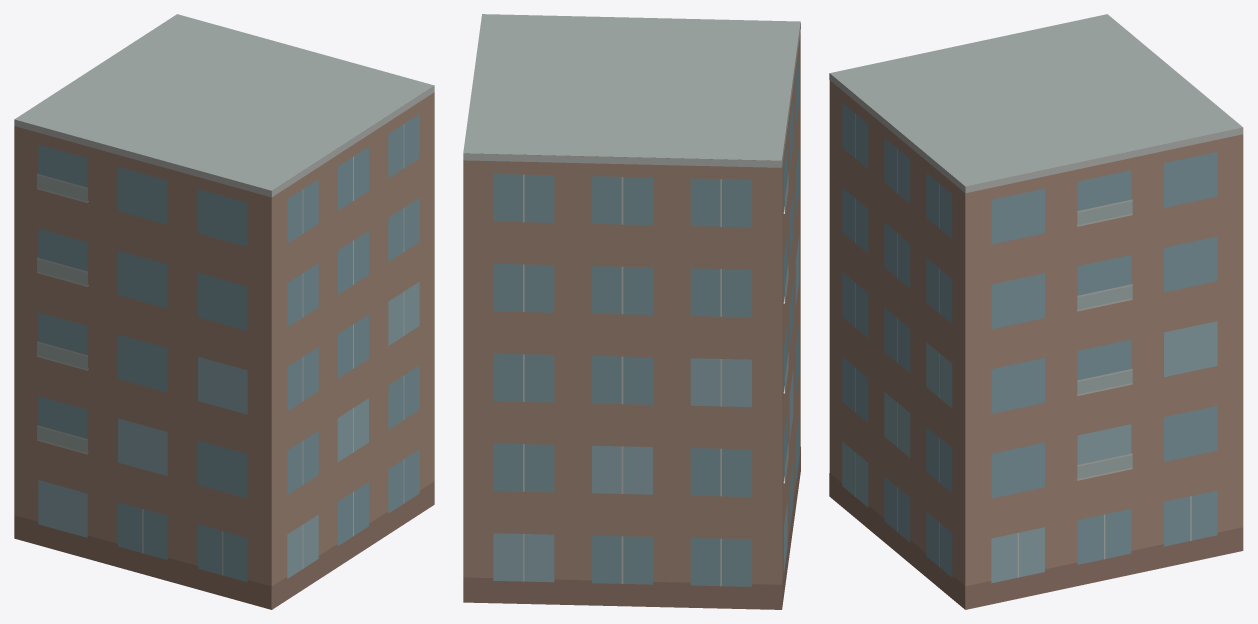
The model's file is survey-upis-32841639.glb.
The picture shows the model from 3 angles, left to right: view 1: azimuth 30°, elevation 25°; view 2: azimuth 150°, elevation 25°; view 3: azimuth 270°, elevation 25°; orthographic projection. The views are drawn at different scales.
Visible parts, largest first — view 1: survey-upis-32841639.tmp; view 2: survey-upis-32841639.tmp; view 3: survey-upis-32841639.tmp.
Part boxes in pixels (left/top/right/bottom): survey-upis-32841639.tmp: left=14, top=14, right=434, bottom=609; survey-upis-32841639.tmp: left=463, top=14, right=800, bottom=609; survey-upis-32841639.tmp: left=829, top=14, right=1243, bottom=609.
Size of the model in its own units: 13.47 by 15.4 by 13.65.
